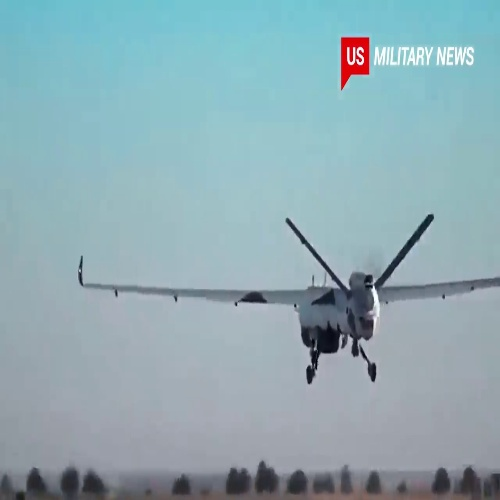uav733: (77, 216, 498, 385)
